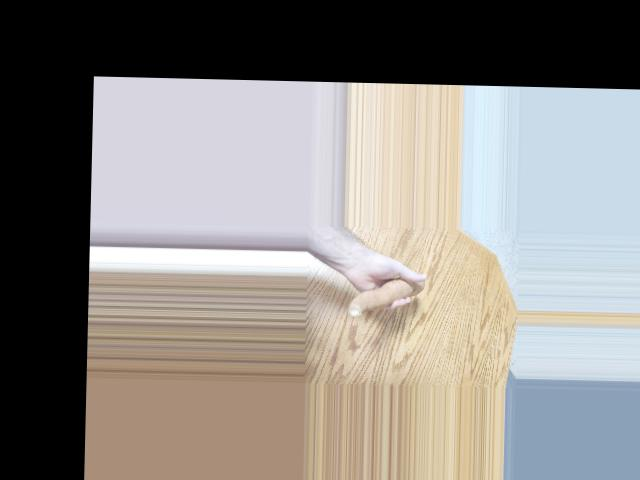sweet_potato: (344, 274, 423, 316)
